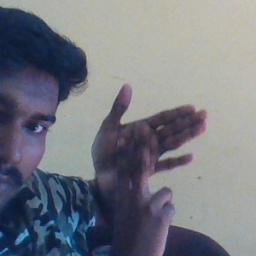N: (80, 81, 212, 212)
